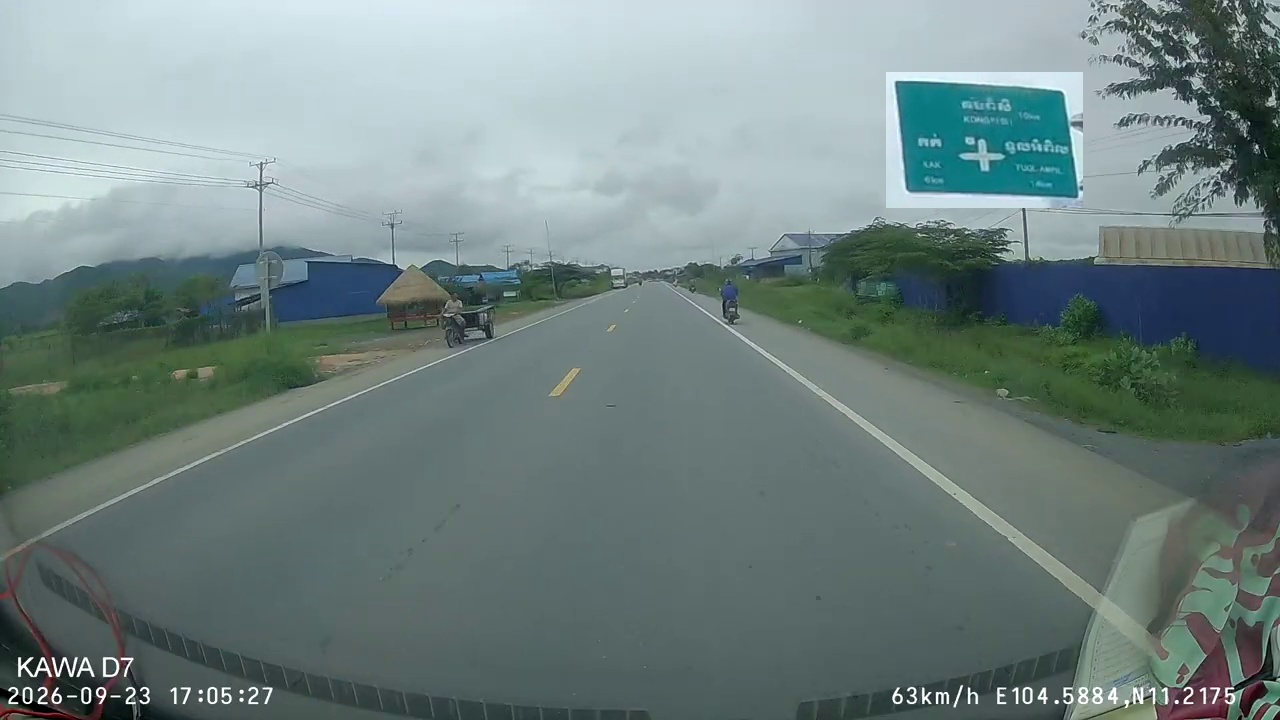direction_sign: (886, 72, 1083, 208)
